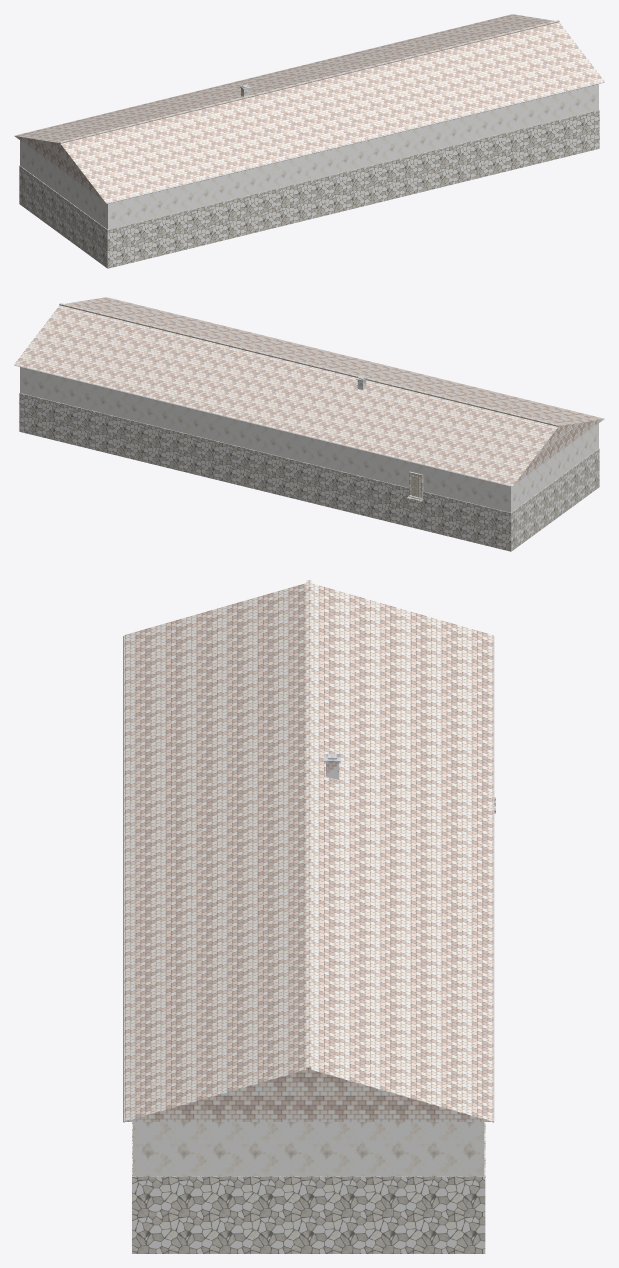
3 views of the same model, one above another, from view 1: azimuth 30°, elevation 25°; view 2: azimuth 150°, elevation 25°; view 3: azimuth 270°, elevation 25° (orthographic). The views are drawn at different scales.
Visible parts, largest first — view 1: b1084716810; view 2: b1084716810; view 3: b1084716810.
Part boxes in pixels (bbox=[...]): b1084716810: bbox=[14, 14, 604, 268]; b1084716810: bbox=[14, 297, 604, 551]; b1084716810: bbox=[123, 580, 495, 1253].
Bounding box in the file's own units: 45.16 × 8.68 × 14.6.
14 materials, 14 textured.
